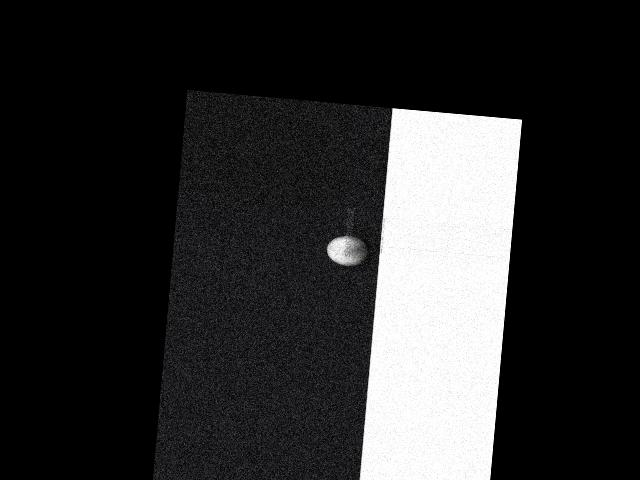egg: (325, 234, 369, 267)
